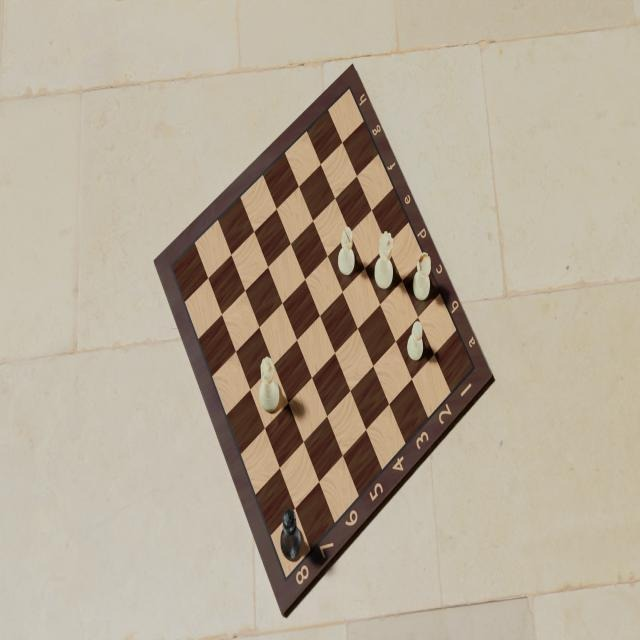black-king: (280, 508, 302, 562)
white-bishop: (336, 224, 356, 276)
white-king: (256, 354, 279, 414)
white-pawn: (405, 321, 422, 360)
white-queen: (374, 230, 394, 290)
white-rook: (412, 251, 432, 305)
